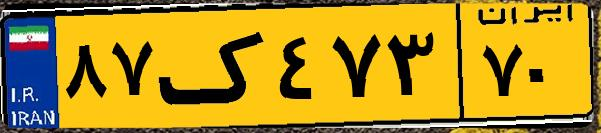0: (525, 38, 570, 115)
3: (385, 28, 445, 110)
4: (270, 28, 330, 110)
7: (330, 28, 385, 110), (475, 38, 525, 113), (110, 28, 158, 98)
8: (57, 26, 110, 100)
ک: (158, 12, 270, 120)
